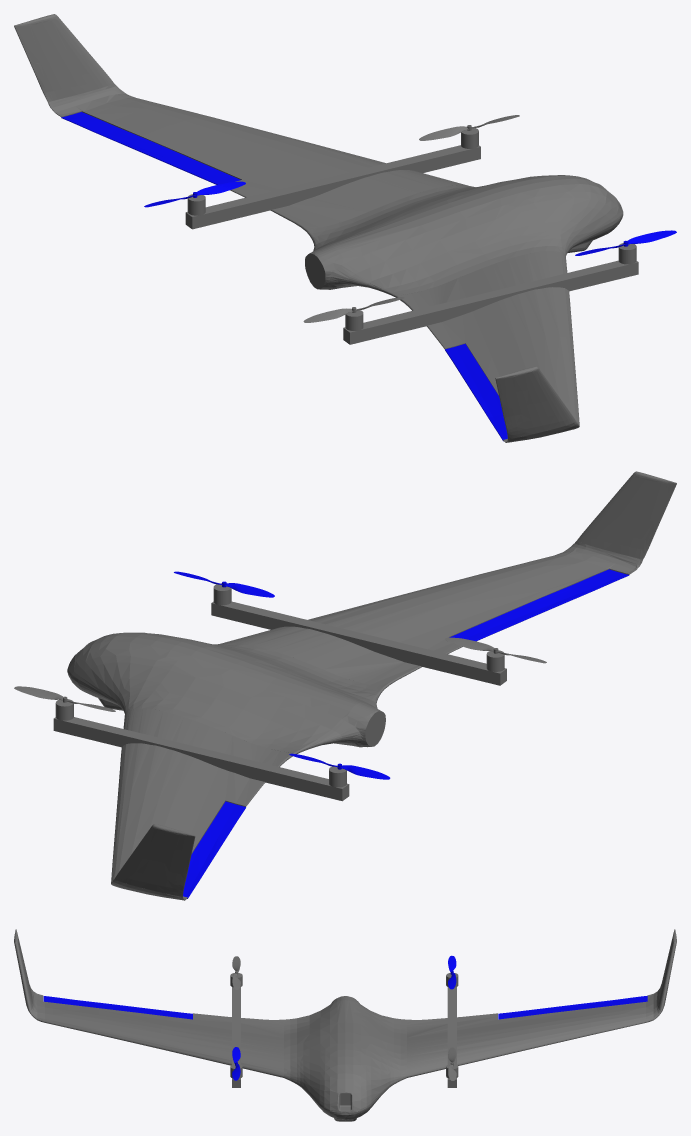
File: tiltrotor.glb
The picture shows the model from 3 angles, top to bottom: view 1: azimuth 30°, elevation 25°; view 2: azimuth 150°, elevation 25°; view 3: azimuth 270°, elevation 25°; orthographic projection. The views are drawn at different scales.
Visible parts, largest first — view 1: base_link/base_link_visual:0, base_link/right_motor_column:0, base_link/left_motor_column:0, left_elevon/left_elevon_visual:0, right_elevon/right_elevon_visual:0; view 2: base_link/base_link_visual:0, base_link/left_motor_column:0, base_link/right_motor_column:0, right_elevon/right_elevon_visual:0, left_elevon/left_elevon_visual:0; view 3: base_link/base_link_visual:0, left_elevon/left_elevon_visual:0, right_elevon/right_elevon_visual:0, base_link/left_motor_column:0, base_link/right_motor_column:0.
Boxes of the visible parts, <box> form: base_link/base_link_visual:0: <box>14,14,623,442</box>; base_link/right_motor_column:0: <box>343,260,638,344</box>; base_link/left_motor_column:0: <box>185,145,480,229</box>; left_elevon/left_elevon_visual:0: <box>61,112,240,184</box>; right_elevon/right_elevon_visual:0: <box>445,343,507,441</box>; base_link/base_link_visual:0: <box>67,471,676,900</box>; base_link/left_motor_column:0: <box>53,717,349,801</box>; base_link/right_motor_column:0: <box>211,601,506,685</box>; right_elevon/right_elevon_visual:0: <box>449,569,629,641</box>; left_elevon/left_elevon_visual:0: <box>183,801,245,898</box>; base_link/base_link_visual:0: <box>14,929,676,1121</box>; left_elevon/left_elevon_visual:0: <box>498,995,647,1019</box>; right_elevon/right_elevon_visual:0: <box>43,996,192,1019</box>; base_link/left_motor_column:0: <box>447,987,456,1087</box>; base_link/right_motor_column:0: <box>232,987,240,1087</box>.
Size of the model in its own units: 1.01 by 0.3073 by 2.15.
